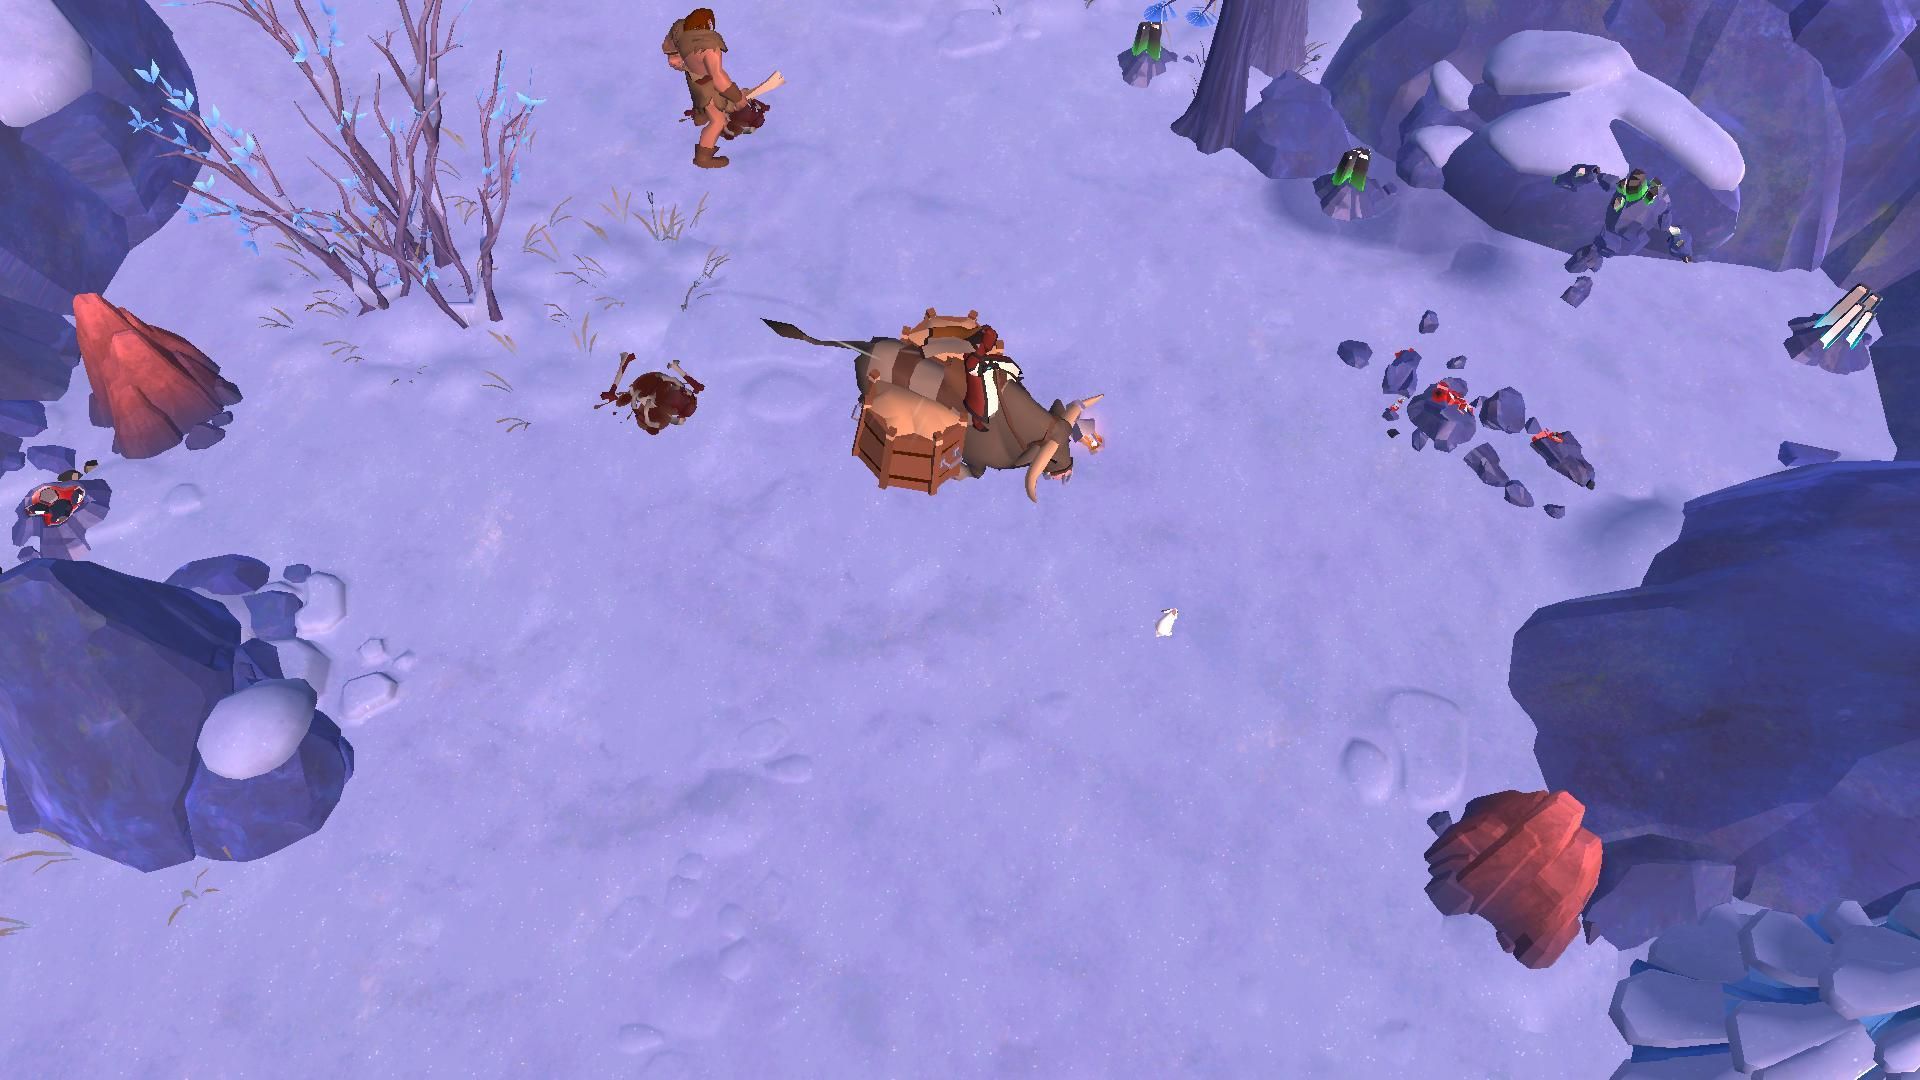enemy_factionKeeper: (658, 4, 774, 175)
ore_t3: (1325, 136, 1379, 195), (1122, 15, 1168, 65)
ore_t4: (1807, 284, 1888, 360)
rock_t5: (1425, 782, 1602, 980), (67, 282, 239, 454)
